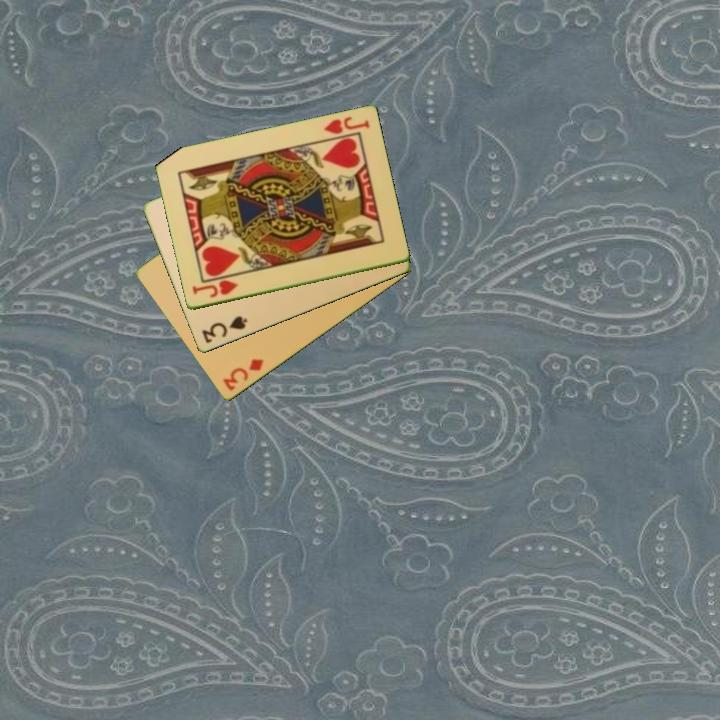3d: (219, 355, 266, 394)
3s: (198, 313, 250, 347)
Jh: (320, 113, 372, 138), (188, 277, 240, 301)
